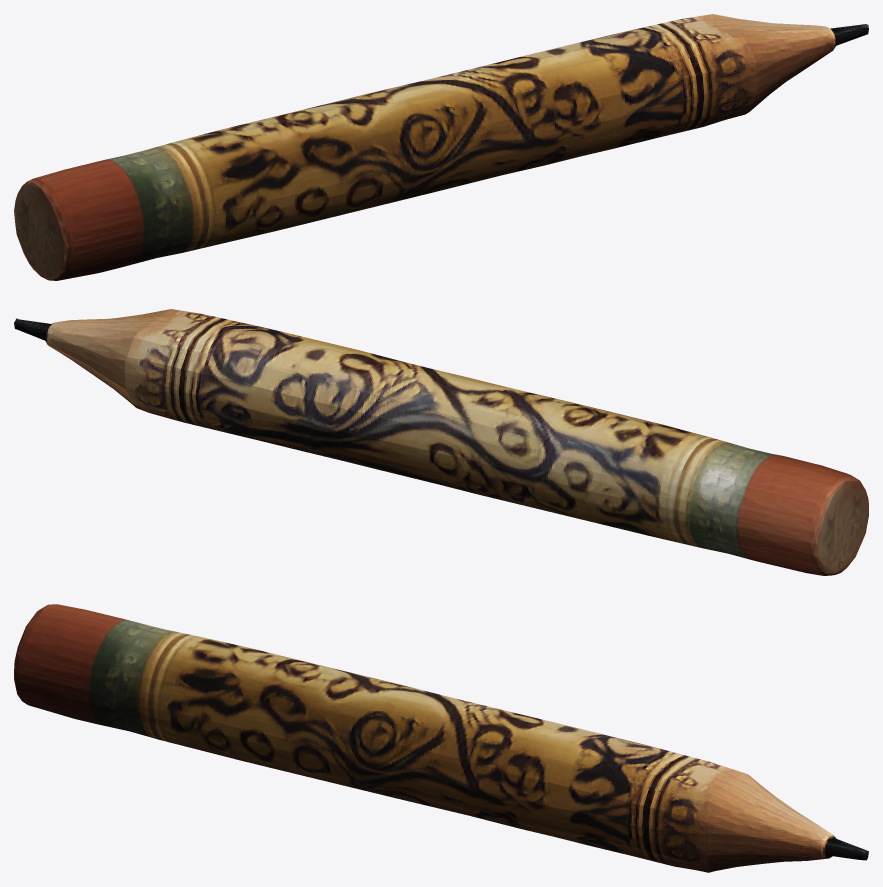
File: wooden-pencil-horror.jpeg.glb
3 views of the same model, one above another, from view 1: azimuth 30°, elevation 25°; view 2: azimuth 150°, elevation 25°; view 3: azimuth 330°, elevation 25° (orthographic).
Visible parts, largest first — view 1: world; view 2: world; view 3: world.
Part boxes in pixels (x1,y1,x2,y2): world: (14, 14, 868, 280); world: (14, 309, 868, 575); world: (14, 604, 868, 872).
Bounding box in the file's own units: 1 × 0.1152 × 0.1184.
Materials: 1 (1 with a texture image).
